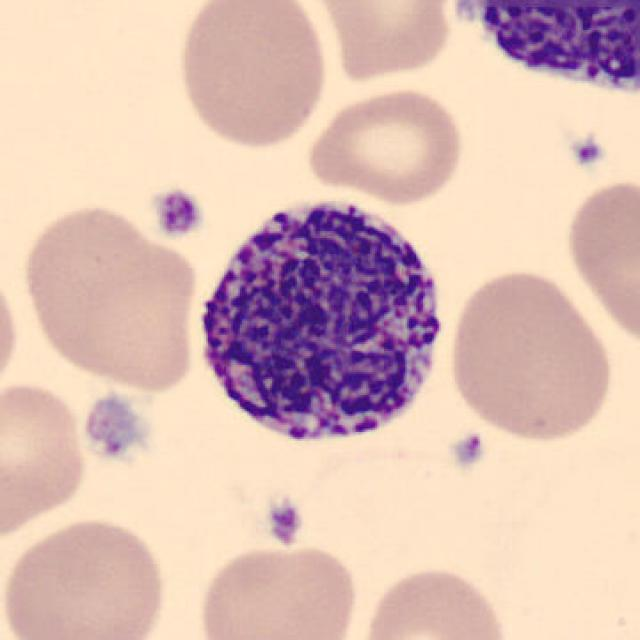Basophil: (185, 182, 460, 466), (435, 0, 640, 111)
Platelets: (78, 393, 151, 466), (150, 185, 207, 242), (261, 494, 306, 546), (565, 130, 610, 174), (448, 432, 487, 472)
RBC: (16, 199, 204, 395), (442, 265, 618, 446), (172, 0, 332, 152), (0, 513, 171, 640), (304, 83, 469, 206), (192, 539, 362, 640), (0, 375, 91, 545), (560, 171, 640, 353), (304, 0, 459, 85), (353, 560, 515, 640), (0, 256, 25, 400)
